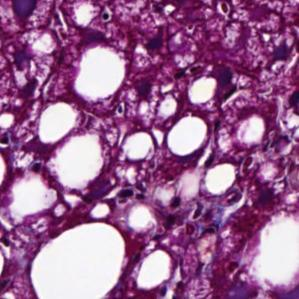inflammation: (213, 60, 249, 110), (109, 178, 156, 210)
